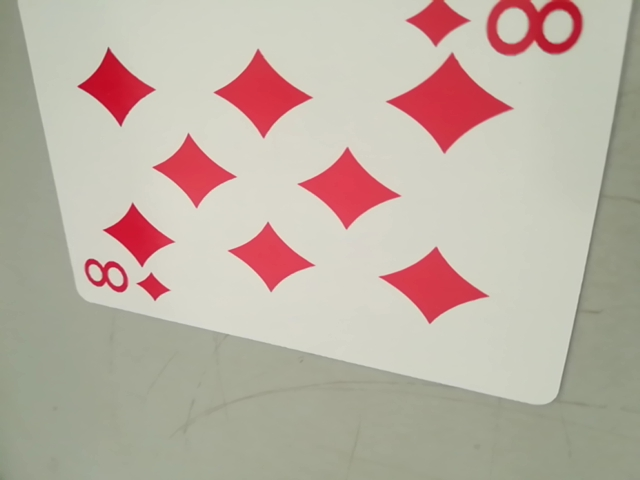fk 8: (406, 0, 585, 64), (77, 254, 169, 306)
